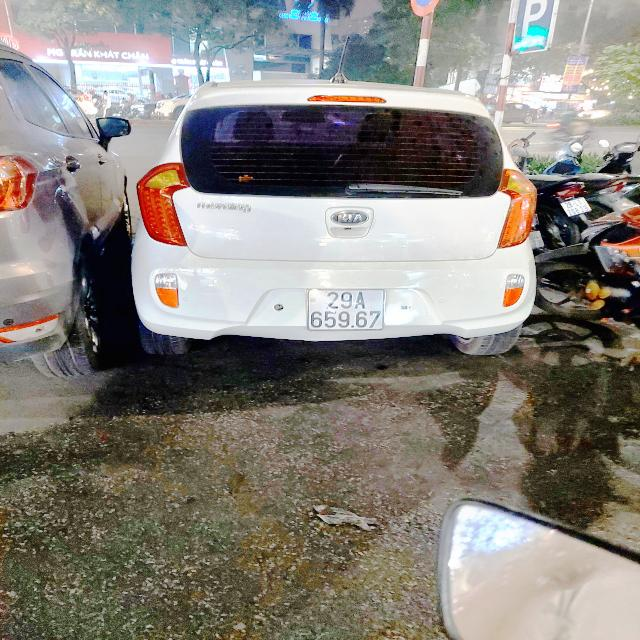license_plate: (305, 287, 389, 336)
